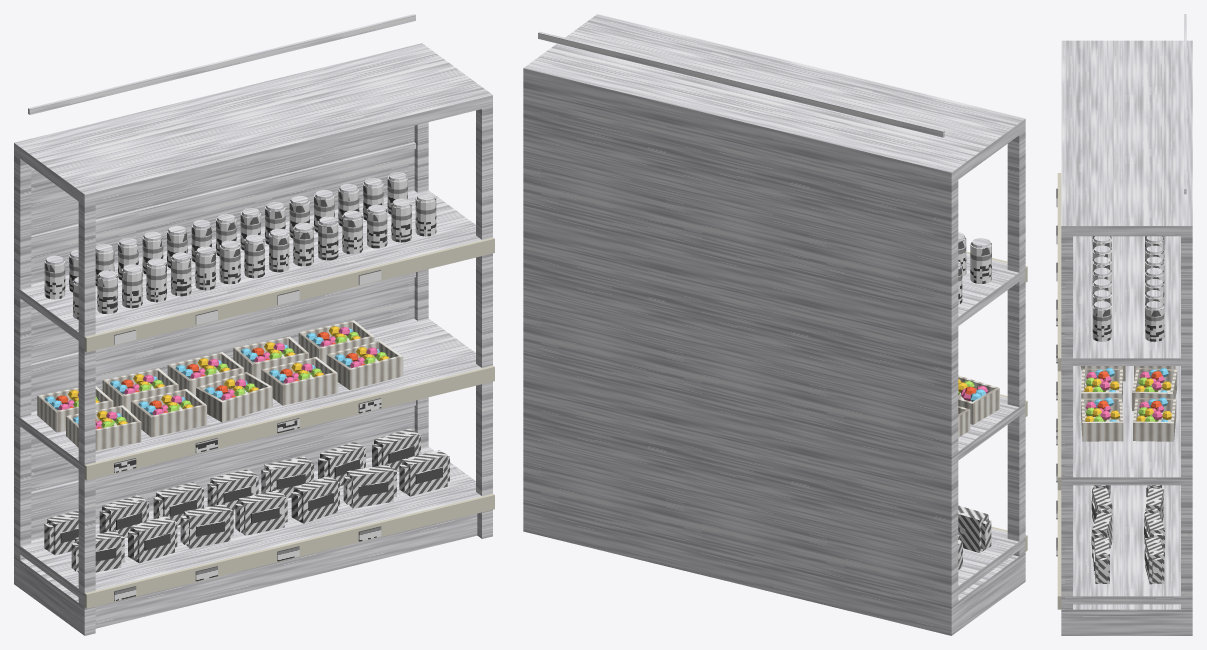
3 views of the same model, side by side, from view 1: azimuth 30°, elevation 25°; view 2: azimuth 150°, elevation 25°; view 3: azimuth 270°, elevation 25° (orthographic). The views are drawn at different scales.
Visible parts, largest first — view 1: metallo_003, metallo_001, metallo_000, liscio_005, metallo_004, metallo_002, cartone_091, cartone_067, cartone_055, cartone_079, stampa_b_019, stampa_b_031 (+35 smaller); view 2: metallo_001, metallo_003, metallo_000, metallo_002, metallo_004, stampa_b_011, cartone_043, stampa_a_099; view 3: metallo_003, metallo_000, metallo_004, metallo_001, liscio_005, cartone_085, cartone_091, stampa_b_033, cartone_073, stampa_b_035, cartone_079, stampa_a_153 (+7 smaller).
Boxes of the visible parts, bbox=[...] form: metallo_003: bbox=[14, 44, 492, 601]; metallo_001: bbox=[14, 43, 420, 585]; metallo_000: bbox=[14, 43, 492, 635]; liscio_005: bbox=[84, 237, 494, 608]; metallo_004: bbox=[17, 513, 477, 631]; metallo_002: bbox=[28, 14, 415, 498]; cartone_091: bbox=[326, 340, 403, 389]; cartone_067: bbox=[196, 372, 272, 422]; cartone_055: bbox=[131, 389, 206, 437]; cartone_079: bbox=[261, 356, 337, 405]; stampa_b_019: bbox=[180, 504, 233, 548]; stampa_b_031: bbox=[343, 464, 396, 508]; metallo_001: bbox=[523, 68, 954, 635]; metallo_003: bbox=[523, 14, 1024, 599]; metallo_000: bbox=[523, 14, 1025, 635]; metallo_002: bbox=[538, 31, 944, 137]; metallo_004: bbox=[955, 555, 1019, 630]; stampa_b_011: bbox=[958, 505, 991, 552]; cartone_043: bbox=[958, 375, 999, 424]; stampa_a_099: bbox=[970, 242, 991, 283]; metallo_003: bbox=[1061, 40, 1192, 604]; metallo_000: bbox=[1061, 40, 1192, 635]; metallo_004: bbox=[1070, 604, 1186, 635]; metallo_001: bbox=[1186, 41, 1192, 635]; liscio_005: bbox=[1057, 173, 1062, 609]; cartone_085: bbox=[1133, 398, 1176, 441]; cartone_091: bbox=[1081, 398, 1123, 441]; stampa_b_033: bbox=[1145, 537, 1164, 584]; cartone_073: bbox=[1132, 368, 1177, 410]; stampa_b_035: bbox=[1094, 537, 1109, 583]; cartone_079: bbox=[1081, 368, 1122, 402]; stampa_a_153: bbox=[1145, 305, 1164, 341].
Bounding box in the file's own units: 1.5 × 1.67 × 0.467.
19 materials, 13 textured.
